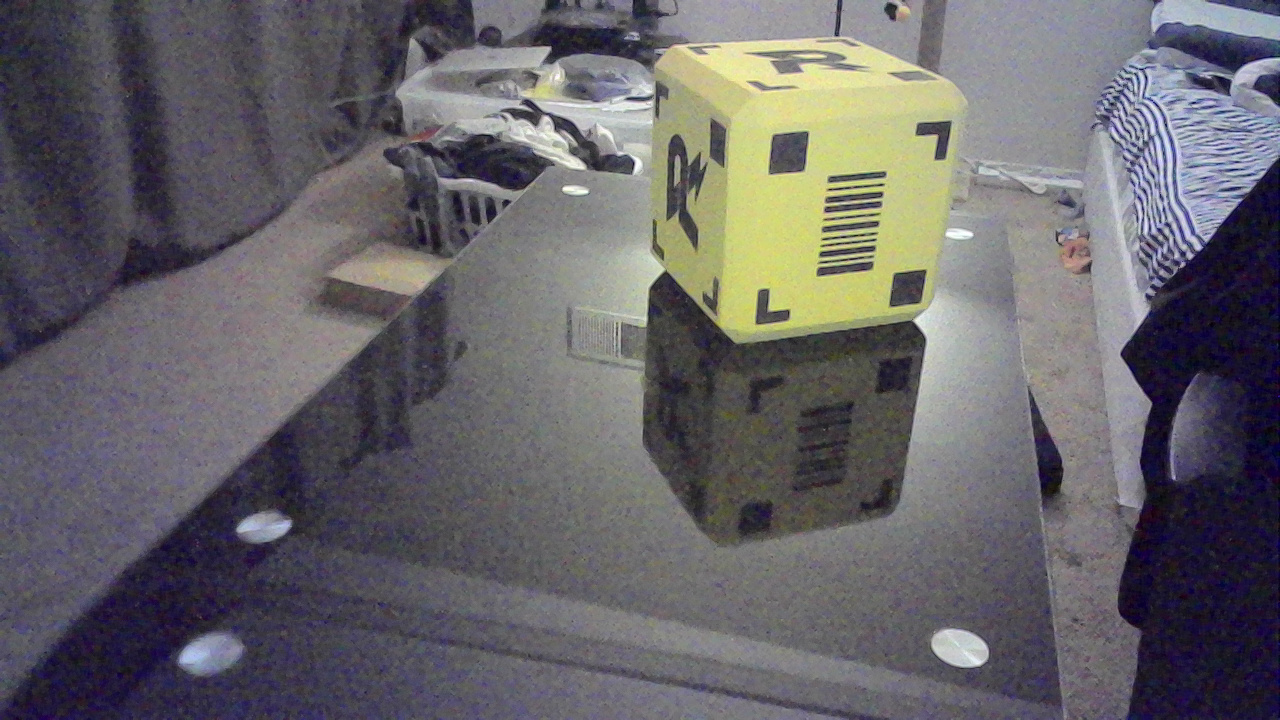Barcode: (826, 170, 885, 284)
R: (660, 132, 715, 266), (760, 43, 884, 81)
